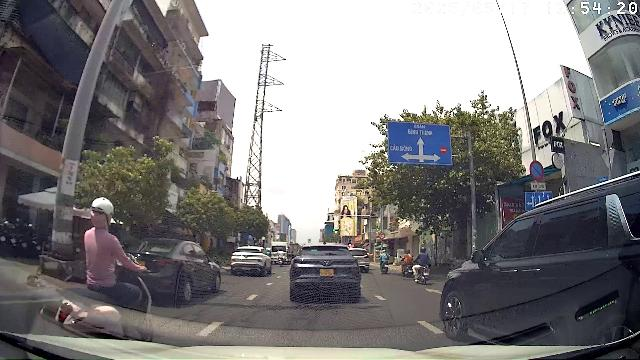131a-cam-do-xe: (530, 160, 544, 180)
